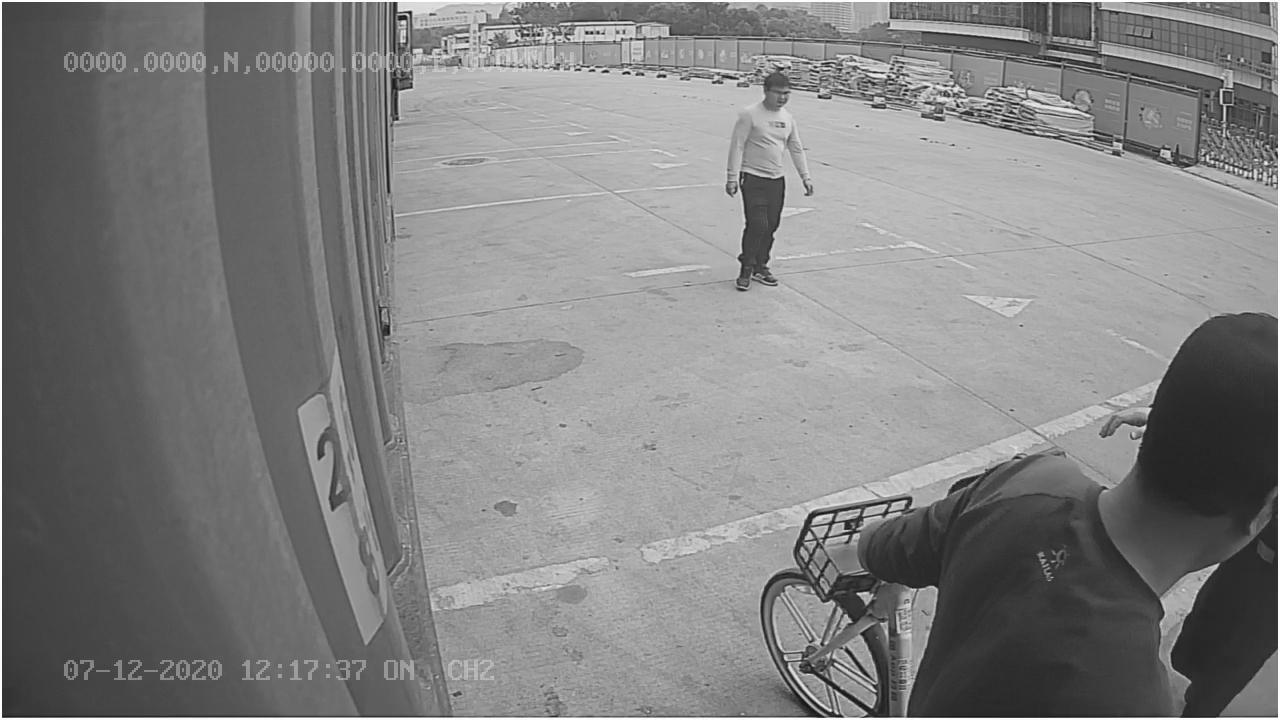person: (719, 70, 820, 296)
